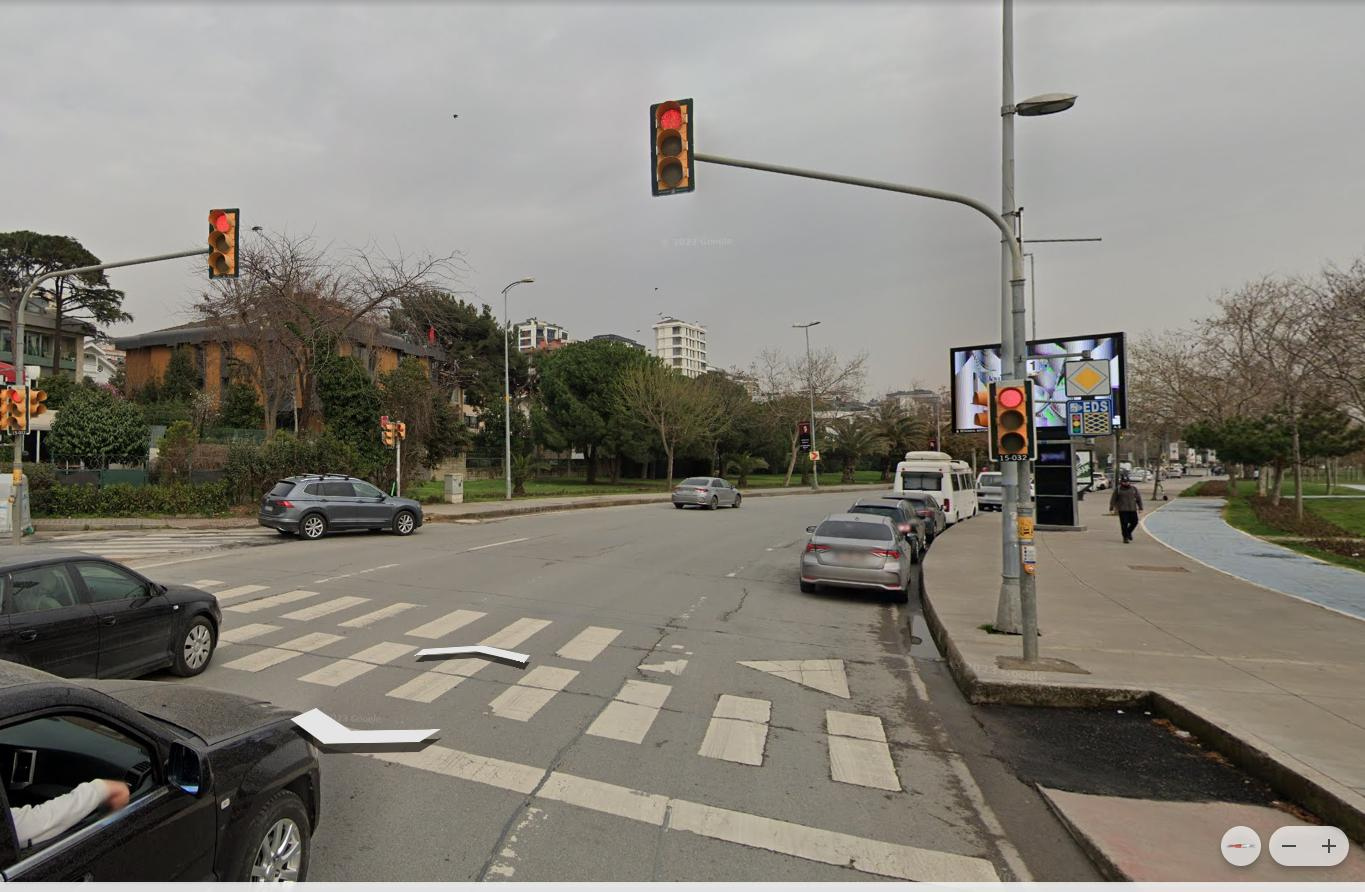redlight: (653, 100, 695, 202), (991, 379, 1030, 462), (206, 206, 241, 281), (8, 381, 29, 435)
